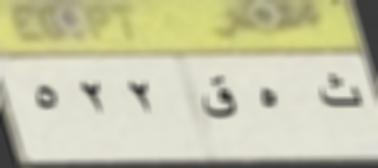2: (121, 68, 169, 113), (73, 77, 110, 112)
5: (28, 79, 63, 118)
haa: (249, 78, 290, 119)
qaaf: (201, 69, 240, 122)
thaa: (312, 68, 364, 114)
